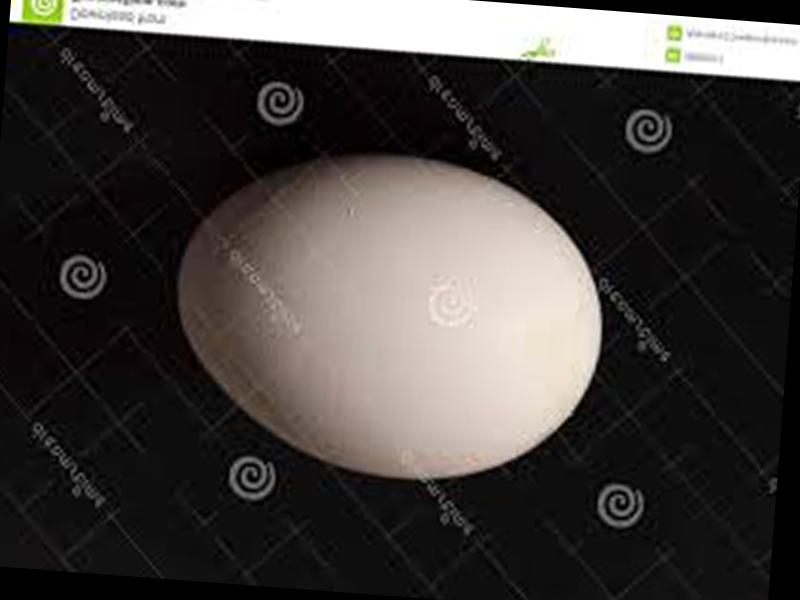Eggs: (163, 140, 617, 492)
